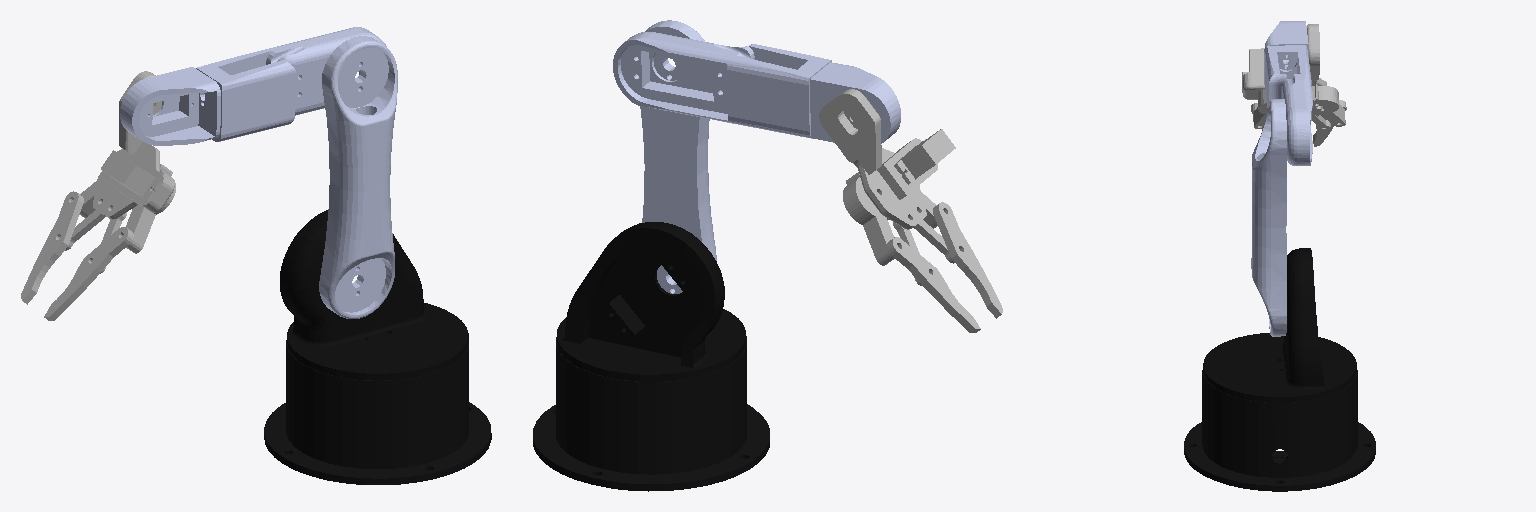
robot.urdf — ufdr:
<?xml version="1.0" encoding="utf-8"?>
<!-- This URDF was automatically created by SolidWorks to URDF Exporter! Originally created by [author] ([email redacted]) 
     Commit Version: 1.6.0-4-g7f85cfe  Build Version: 1.6.7995.38578
     For more information, please see http://wiki.ros.org/sw_urdf_exporter -->
<robot
  name="ufdr">
  <link
    name="base_link">
    <inertial>
      <origin
        xyz="0.0010983 0.022114 1.4744E-09"
        rpy="0 0 0" />
      <mass
        value="0.094484" />
      <inertia
        ixx="0.0001286"
        ixy="3.834E-06"
        ixz="-3.3704E-12"
        iyy="0.0002053"
        iyz="3.998E-13"
        izz="0.00013468" />
    </inertial>
    <visual>
      <origin
        xyz="0 0 0"
        rpy="0 0 0" />
      <geometry>
        <mesh
          filename="package://ufdr/meshes/base_link.STL" />
      </geometry>
      <material
        name="">
        <color
          rgba="0.1098 0.1098 0.1098 1" />
      </material>
    </visual>
    <collision>
      <origin
        xyz="0 0 0"
        rpy="0 0 0" />
      <geometry>
        <mesh
          filename="package://ufdr/meshes/base_link.STL" />
      </geometry>
    </collision>
  </link>
  <link
    name="Link_1">
    <inertial>
      <origin
        xyz="0.0080422 0.023883 -0.0048986"
        rpy="0 0 0" />
      <mass
        value="0.085761" />
      <inertia
        ixx="9.2537E-05"
        ixy="-7.9634E-06"
        ixz="1.5539E-06"
        iyy="7.0011E-05"
        iyz="1.0779E-05"
        izz="6.5726E-05" />
    </inertial>
    <visual>
      <origin
        xyz="0 0 0"
        rpy="0 0 0" />
      <geometry>
        <mesh
          filename="package://ufdr/meshes/Link_1.STL" />
      </geometry>
      <material
        name="">
        <color
          rgba="0.10196 0.10196 0.10196 1" />
      </material>
    </visual>
    <collision>
      <origin
        xyz="0 0 0"
        rpy="0 0 0" />
      <geometry>
        <mesh
          filename="package://ufdr/meshes/Link_1.STL" />
      </geometry>
    </collision>
  </link>
  <joint
    name="Joint0"
    type="revolute">
    <origin
      xyz="0 0 0.056"
      rpy="1.5708 0 1.6232" />
    <parent
      link="base_link" />
    <child
      link="Link_1" />
    <axis
      xyz="0 1 0" />
    <limit
      lower="0"
      upper="0"
      effort="0"
      velocity="0" />
  </joint>
  <link
    name="Link_2">
    <inertial>
      <origin
        xyz="3.979E-07 -0.06 -0.0038203"
        rpy="0 0 0" />
      <mass
        value="0.064281" />
      <inertia
        ixx="0.00010383"
        ixy="-5.0317E-10"
        ixz="-8.5739E-10"
        iyy="9.2898E-06"
        iyz="2.5271E-10"
        izz="0.00010871" />
    </inertial>
    <visual>
      <origin
        xyz="0 0 0"
        rpy="0 0 0" />
      <geometry>
        <mesh
          filename="package://ufdr/meshes/Link_2.STL" />
      </geometry>
      <material
        name="">
        <color
          rgba="0.79216 0.81961 0.93333 1" />
      </material>
    </visual>
    <collision>
      <origin
        xyz="0 0 0"
        rpy="0 0 0" />
      <geometry>
        <mesh
          filename="package://ufdr/meshes/Link_2.STL" />
      </geometry>
    </collision>
  </link>
  <joint
    name="Joint1"
    type="revolute">
    <origin
      xyz="0 0.04028 -0.01391"
      rpy="-1.5708 -1.5563 -1.5708" />
    <parent
      link="Link_1" />
    <child
      link="Link_2" />
    <axis
      xyz="0 0 1" />
    <limit
      lower="0"
      upper="0"
      effort="0"
      velocity="0" />
  </joint>
  <link
    name="Link_3">
    <inertial>
      <origin
        xyz="0.059939 -0.00019022 0.011231"
        rpy="0 0 0" />
      <mass
        value="0.0624" />
      <inertia
        ixx="1.1141E-05"
        ixy="5.556E-07"
        ixz="2.5735E-07"
        iyy="5.4296E-05"
        iyz="-6.3943E-09"
        izz="5.8726E-05" />
    </inertial>
    <visual>
      <origin
        xyz="0 0 0"
        rpy="0 0 0" />
      <geometry>
        <mesh
          filename="package://ufdr/meshes/Link_3.STL" />
      </geometry>
      <material
        name="">
        <color
          rgba="0.79216 0.81961 0.93333 1" />
      </material>
    </visual>
    <collision>
      <origin
        xyz="0 0 0"
        rpy="0 0 0" />
      <geometry>
        <mesh
          filename="package://ufdr/meshes/Link_3.STL" />
      </geometry>
    </collision>
  </link>
  <joint
    name="Joint2"
    type="revolute">
    <origin
      xyz="0 -0.12 0"
      rpy="0 0.00017994 -3.1329" />
    <parent
      link="Link_2" />
    <child
      link="Link_3" />
    <axis
      xyz="0 0 1" />
    <limit
      lower="0"
      upper="0"
      effort="0"
      velocity="0" />
  </joint>
  <link
    name="End">
    <inertial>
      <origin
        xyz="-0.016425 -0.009747 0.042093"
        rpy="0 0 0" />
      <mass
        value="0.042904" />
      <inertia
        ixx="1.1078E-05"
        ixy="3.7415E-07"
        ixz="-1.7567E-06"
        iyy="1.3512E-05"
        iyz="1.3505E-06"
        izz="4.9996E-06" />
    </inertial>
    <visual>
      <origin
        xyz="0 0 0"
        rpy="0 0 0" />
      <geometry>
        <mesh
          filename="package://ufdr/meshes/End.STL" />
      </geometry>
      <material
        name="">
        <color
          rgba="0.75294 0.75294 0.75294 1" />
      </material>
    </visual>
    <collision>
      <origin
        xyz="0 0 0"
        rpy="0 0 0" />
      <geometry>
        <mesh
          filename="package://ufdr/meshes/End.STL" />
      </geometry>
    </collision>
  </link>
  <joint
    name="Joint3"
    type="revolute">
    <origin
      xyz="0.11625 0.00029954 -2.098E-05"
      rpy="-2.3043 1.5706 3.1184" />
    <parent
      link="Link_3" />
    <child
      link="End" />
    <axis
      xyz="1 0 0" />
    <limit
      lower="0"
      upper="0"
      effort="0"
      velocity="0" />
  </joint>
</robot>

--- Render facts (derived) ---
3 views of the same robot in one strip: view 1: azimuth 30°, elevation 25°; view 2: azimuth 150°, elevation 25°; view 3: azimuth 270°, elevation 25° (orthographic).
Robot: ufdr — 5 links, 4 joints (4 revolute); root link base_link; default pose: every joint at zero.
Links seen in each view (by area): view 1: base_link, Link_2, Link_1, Link_3, End; view 2: base_link, Link_1, Link_3, End, Link_2; view 3: base_link, Link_1, Link_2, Link_3, End.
Boxes of the visible links, left/top/right/bottom form: base_link: left=264, top=340, right=491, bottom=484; Link_2: left=319, top=36, right=397, bottom=318; Link_1: left=280, top=210, right=468, bottom=380; Link_3: left=120, top=27, right=386, bottom=145; End: left=21, top=71, right=175, bottom=320; base_link: left=533, top=336, right=769, bottom=491; Link_1: left=557, top=222, right=745, bottom=381; Link_3: left=613, top=32, right=900, bottom=143; End: left=819, top=89, right=1002, bottom=332; Link_2: left=640, top=20, right=716, bottom=293; base_link: left=1184, top=370, right=1375, bottom=491; Link_1: left=1203, top=248, right=1356, bottom=402; Link_2: left=1251, top=99, right=1286, bottom=336; Link_3: left=1264, top=21, right=1312, bottom=165; End: left=1242, top=24, right=1346, bottom=146.
Bounding box of the posed robot: 0.2672 × 0.1215 × 0.2373 m (x, y, z).
Meshes: 5 distinct files referenced, 5 mesh visuals loaded (5 binary STL).